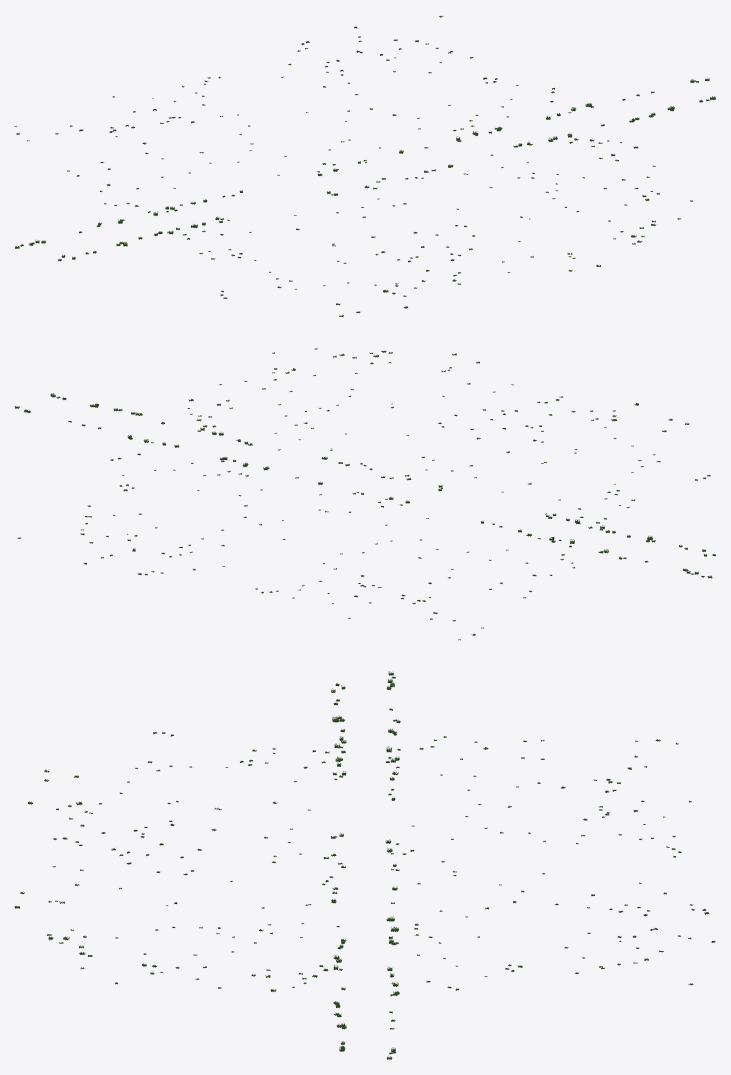
The model's file is duckov_grass_foliage_a.obj.
The picture shows the model from 3 angles, top to bottom: view 1: azimuth 30°, elevation 25°; view 2: azimuth 150°, elevation 25°; view 3: azimuth 270°, elevation 25°; orthographic projection. The views are drawn at different scales.
Parts seen in each view (by area): view 1: DuckovGrassFoliageA; view 2: DuckovGrassFoliageA; view 3: DuckovGrassFoliageA.
Part boxes in pixels (x1,y1,x2,y2): DuckovGrassFoliageA: (14,16,715,316); DuckovGrassFoliageA: (15,348,715,640); DuckovGrassFoliageA: (14,671,715,1059).
Bounding box in the file's own units: 115 × 0.8306 × 88.35.
1 material, 1 textured.
